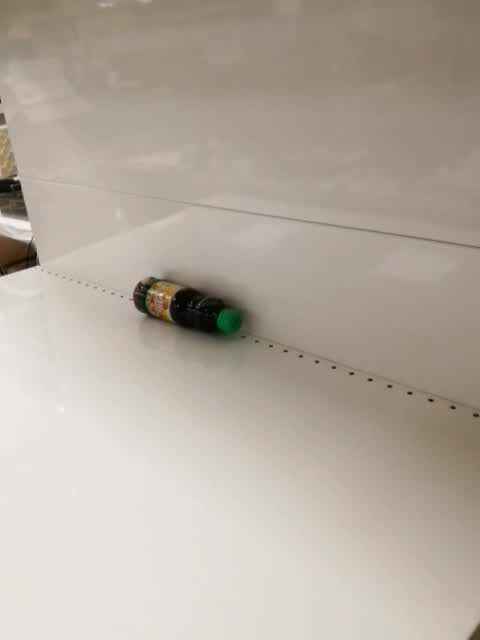cookingoil: (130, 271, 247, 338)
